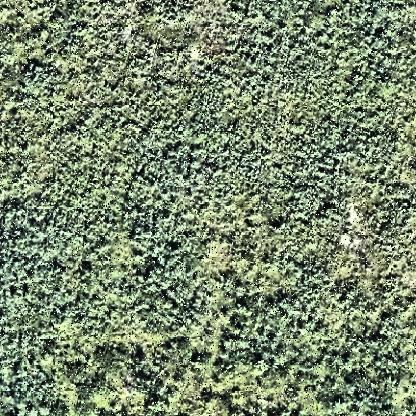tree-top: (353, 382, 391, 411), (333, 391, 351, 414), (167, 240, 189, 256)
